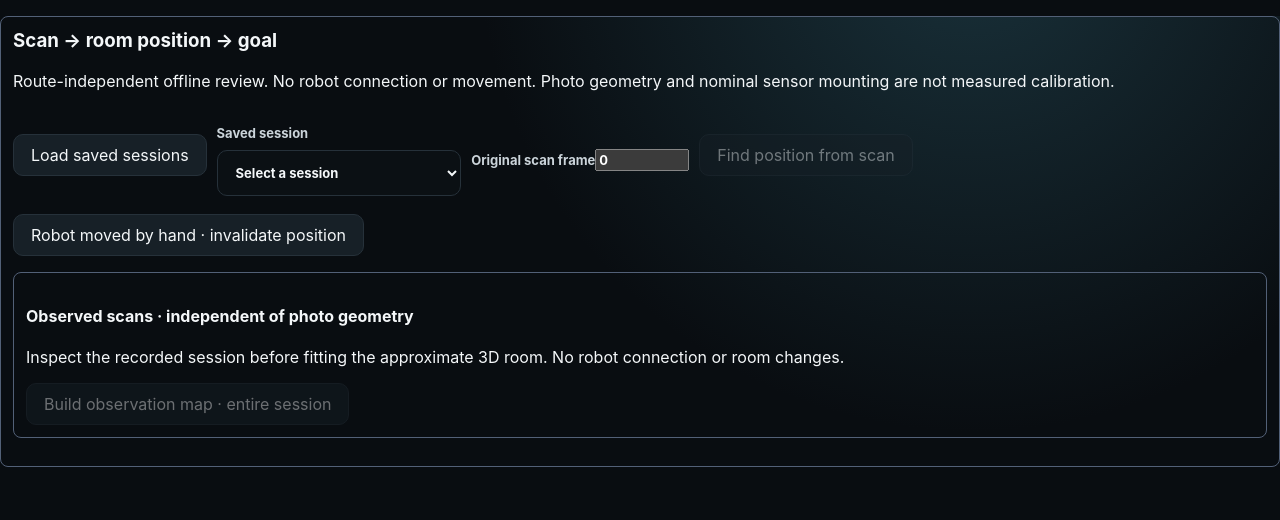
Test: saved scan localization › shows exact backend reason rather than leaving a silent locked panel
Click the button "Load saved sessions": (110, 155) [13,134,207,176]
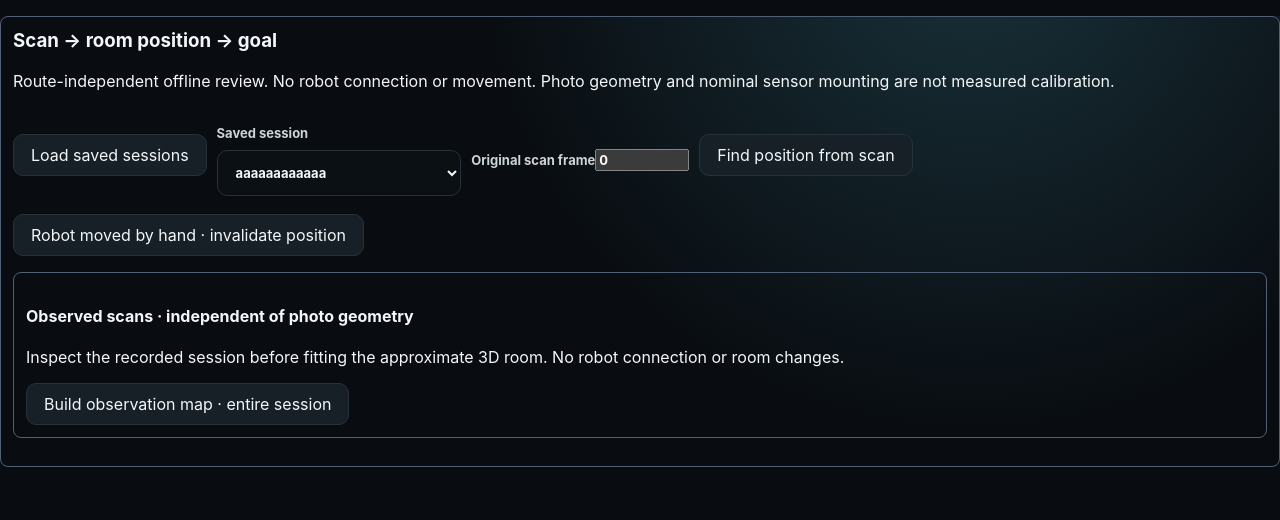
Click the button "Find position from scan": (806, 155) [699,134,913,176]
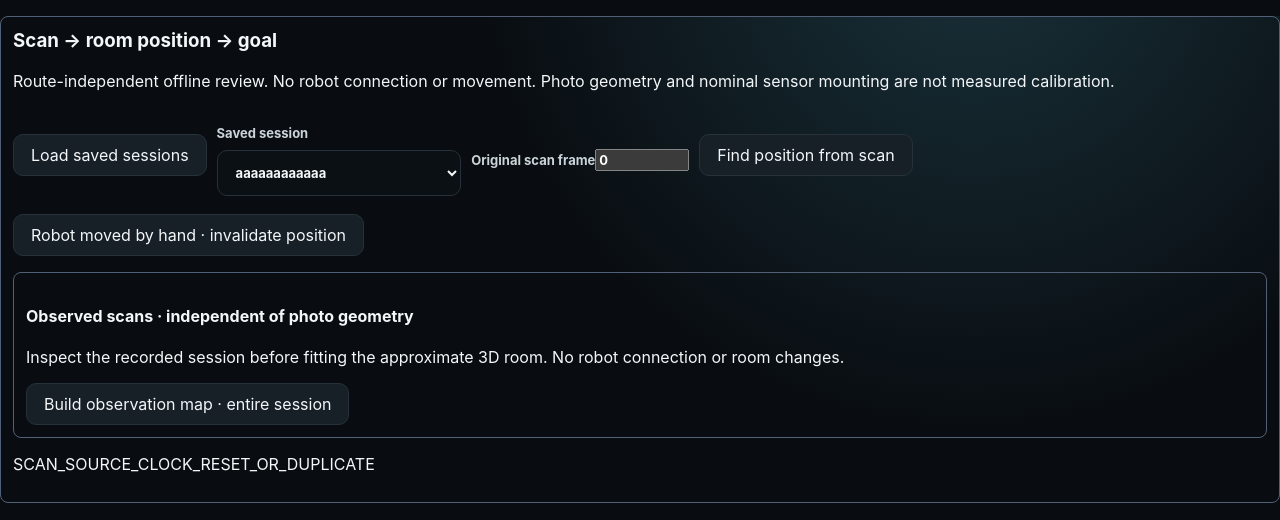
Expected: the message reads "SCAN_SOURCE_CLOCK_RESET_OR_DUPLICATE", [13,454,375,474]
